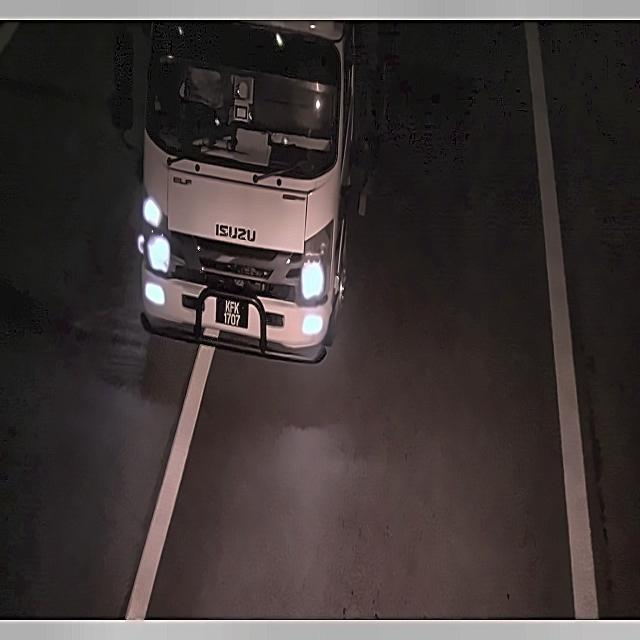car: (210, 288, 255, 338)
